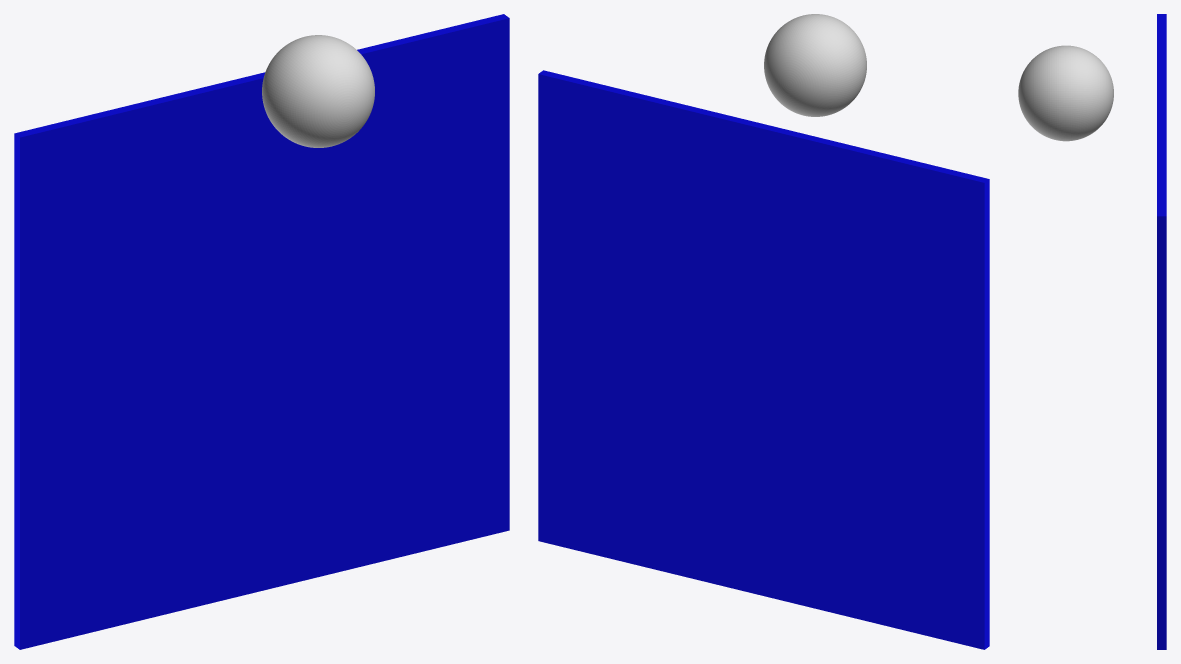
Rendered from timecode_ex2b.glb.
The picture shows the model from 3 angles, left to right: view 1: azimuth 30°, elevation 25°; view 2: azimuth 150°, elevation 25°; view 3: azimuth 270°, elevation 25°; orthographic projection. The views are drawn at different scales.
Parts seen in each view (by area): view 1: Backdrop, Sphere; view 2: Backdrop, Sphere; view 3: Sphere, Backdrop.
Boxes of the visible parts, x1,y1,x2,y2 form: Backdrop: (14,14,509,649); Sphere: (262,35,374,147); Backdrop: (538,70,989,649); Sphere: (764,14,866,116); Sphere: (1018,45,1113,141); Backdrop: (1157,14,1166,649).
Bounding box in the file's own units: 10 × 11.5 × 3.1.
